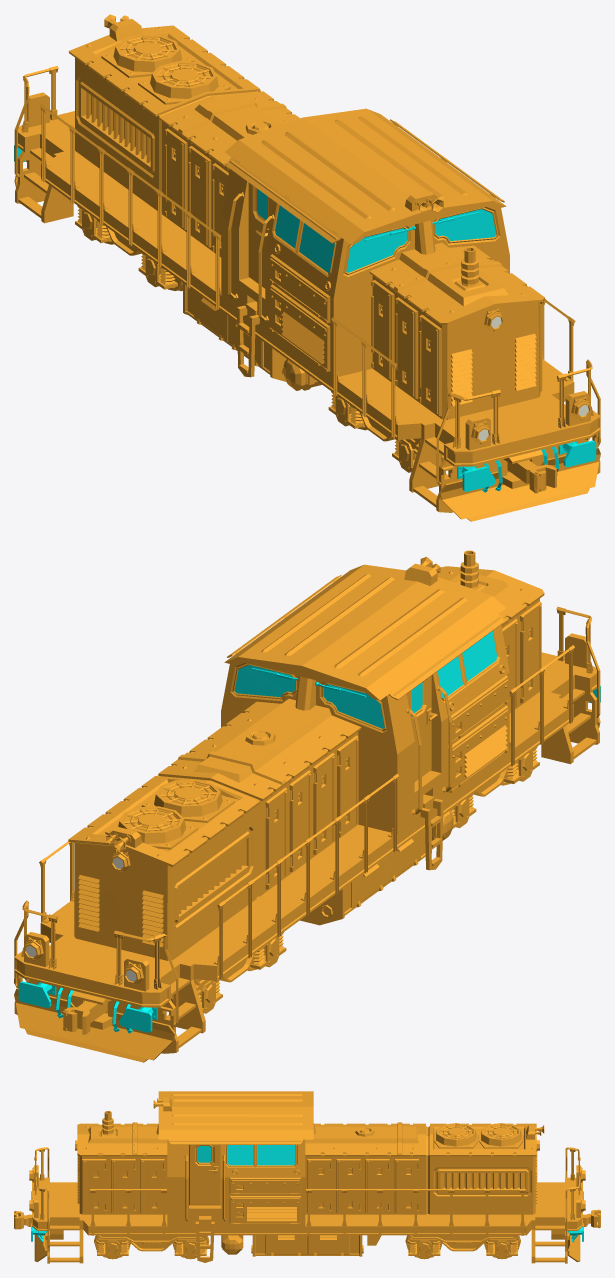
The model's file is SM_Train_Locomotive_Beetle.fbx.
The picture shows the model from 3 angles, top to bottom: view 1: azimuth 30°, elevation 25°; view 2: azimuth 150°, elevation 25°; view 3: azimuth 270°, elevation 25°; orthographic projection. The views are drawn at different scales.
Visible parts, largest first — view 1: SM_Train_Locomotive_Beetle_Base, SM_Train_Locomotive_Beatle_Base_Chassis_B, SM_Train_Locomotive_Beatle_Base_Chassis_F, SM_Train_Locomotive_Beetle_Base_Joint_F; view 2: SM_Train_Locomotive_Beetle_Base, SM_Train_Locomotive_Beatle_Base_Chassis_B, SM_Train_Locomotive_Beatle_Base_Chassis_F, SM_Train_Locomotive_Beetle_Base_Joint_B; view 3: SM_Train_Locomotive_Beetle_Base, SM_Train_Locomotive_Beatle_Base_Chassis_B, SM_Train_Locomotive_Beatle_Base_Chassis_F, SM_Train_Locomotive_Beetle_Base_Joint_F, SM_Train_Locomotive_Beetle_Base_Joint_B.
Part boxes in pixels (x1=…): SM_Train_Locomotive_Beetle_Base: x1=14, y1=14, x2=600, y2=521; SM_Train_Locomotive_Beatle_Base_Chassis_B: x1=75, y1=205, x2=177, y2=289; SM_Train_Locomotive_Beatle_Base_Chassis_F: x1=328, y1=391, x2=421, y2=472; SM_Train_Locomotive_Beetle_Base_Joint_F: x1=507, y1=460, x2=556, y2=493; SM_Train_Locomotive_Beetle_Base: x1=14, y1=550, x2=600, y2=1062; SM_Train_Locomotive_Beatle_Base_Chassis_B: x1=193, y1=932, x2=286, y2=1013; SM_Train_Locomotive_Beatle_Base_Chassis_F: x1=450, y1=746, x2=539, y2=828; SM_Train_Locomotive_Beetle_Base_Joint_B: x1=63, y1=1001, x2=107, y2=1034; SM_Train_Locomotive_Beetle_Base: x1=29, y1=1091, x2=585, y2=1263; SM_Train_Locomotive_Beatle_Base_Chassis_B: x1=407, y1=1235, x2=518, y2=1258; SM_Train_Locomotive_Beatle_Base_Chassis_F: x1=96, y1=1235, x2=207, y2=1258; SM_Train_Locomotive_Beetle_Base_Joint_F: x1=14, y1=1210, x2=31, y2=1229; SM_Train_Locomotive_Beetle_Base_Joint_B: x1=583, y1=1209, x2=600, y2=1228.
Size of the model in its own units: 3.55 by 4.2 by 15.07.
